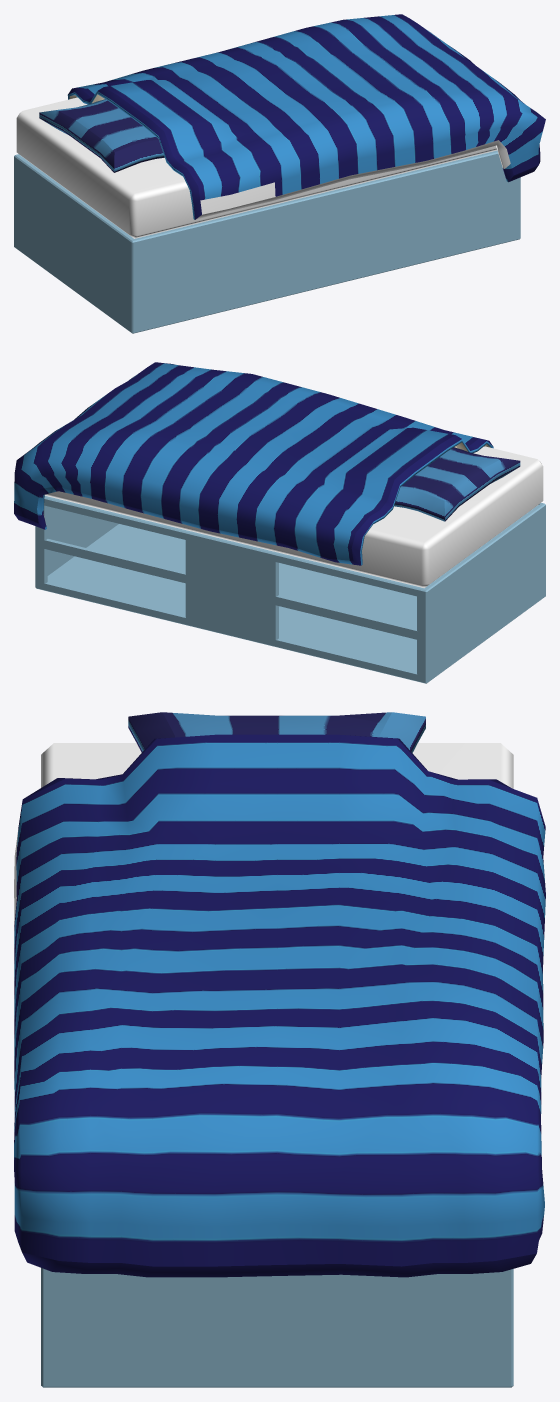
File: bed.fbx
The picture shows the model from 3 angles, top to bottom: view 1: azimuth 30°, elevation 25°; view 2: azimuth 150°, elevation 25°; view 3: azimuth 270°, elevation 25°; orthographic projection. The views are drawn at different scales.
Visible parts, largest first — view 1: bed_geo; view 2: bed_geo; view 3: bed_geo.
Part boxes in pixels (x1=…): bed_geo: x1=14, y1=14, x2=545, y2=333; bed_geo: x1=14, y1=362, x2=545, y2=683; bed_geo: x1=14, y1=712, x2=545, y2=1387.
Bounding box in the file's own units: 203 × 78.42 × 113.
